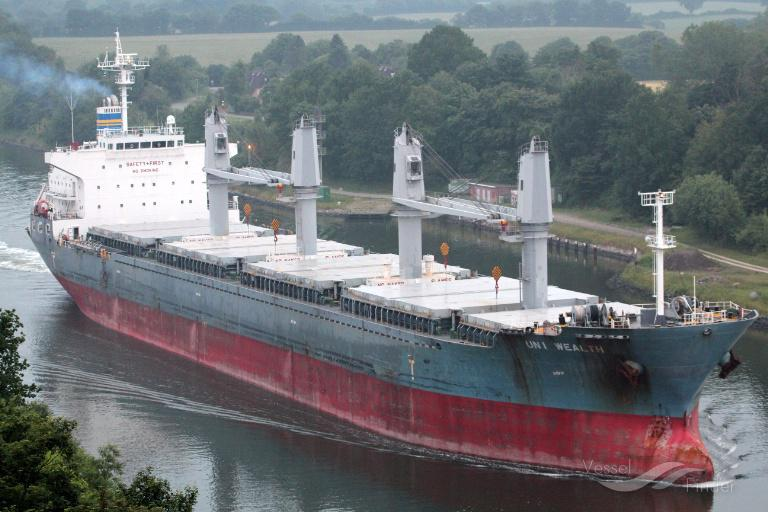OCR: (520, 338, 611, 358)
